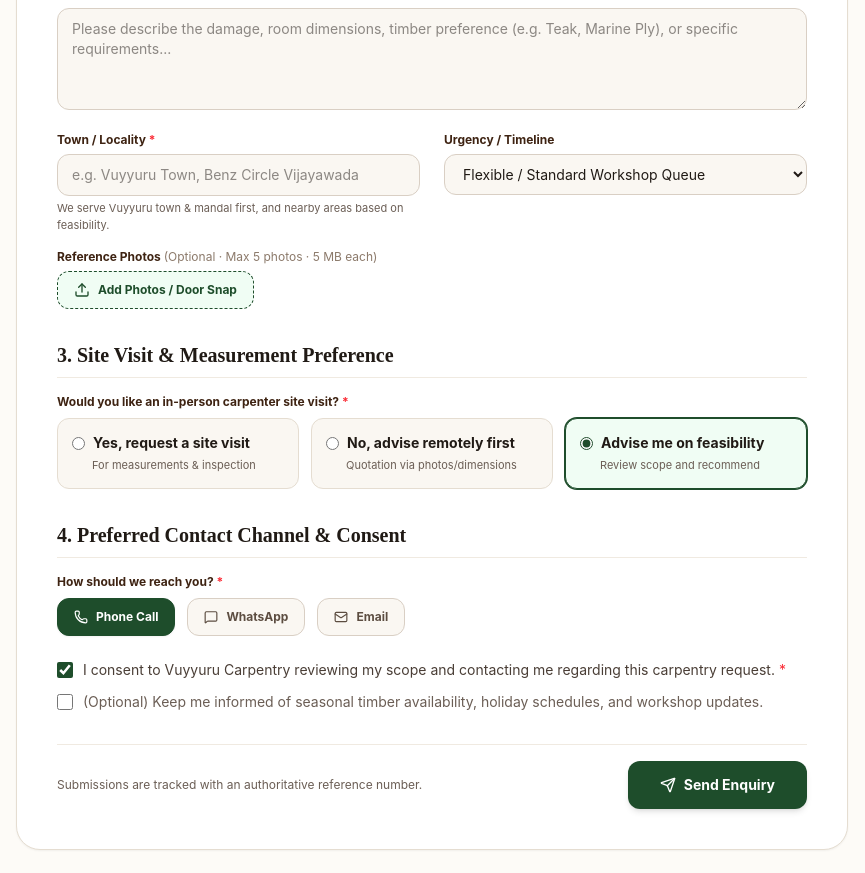
Test case: Screen 09: Contact & Site-Visit Request Acceptance Tests › 5. conditionally reveals site visit details and makes address required when yes is chosen
(page scrolled)
Check: the heading "3. Site Visit & Measurement Preference" is shown, box [57,341,807,378]
Check: the field labelled "Full Street Address / Landmark for Site Visit" is not shown
Select "Yes, request a site visit"
Click the radio button labelled "Yes, request a site visit For measurements & inspection": (78, 443) [72,436,85,450]
(page scrolled)
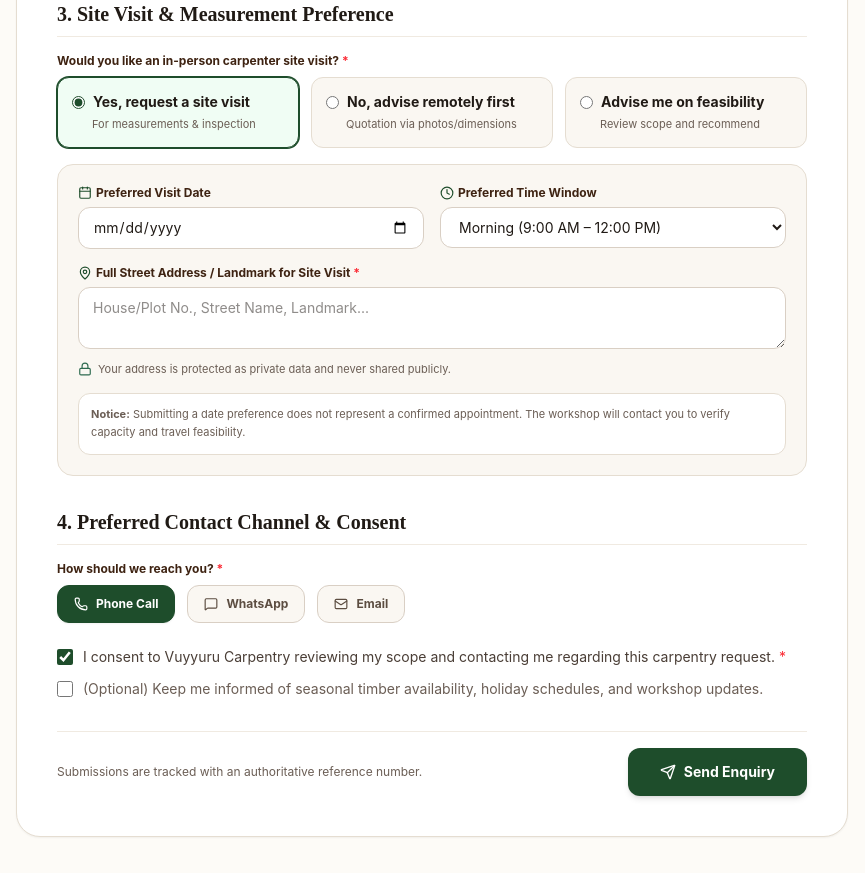
Check: the text box labelled "Full Street Address / Landmark for Site Visit *" is shown, box [78,286,786,348]
Check: the date field labelled "Preferred Visit Date" is shown, box [78,206,424,248]
Check: the dropdown labelled "Preferred Time Window" is shown, box [440,206,786,248]
Submitting without address should trigger validation error
Click the button "Send Enquiry": (717, 772) [628,748,807,796]
(page scrolled)
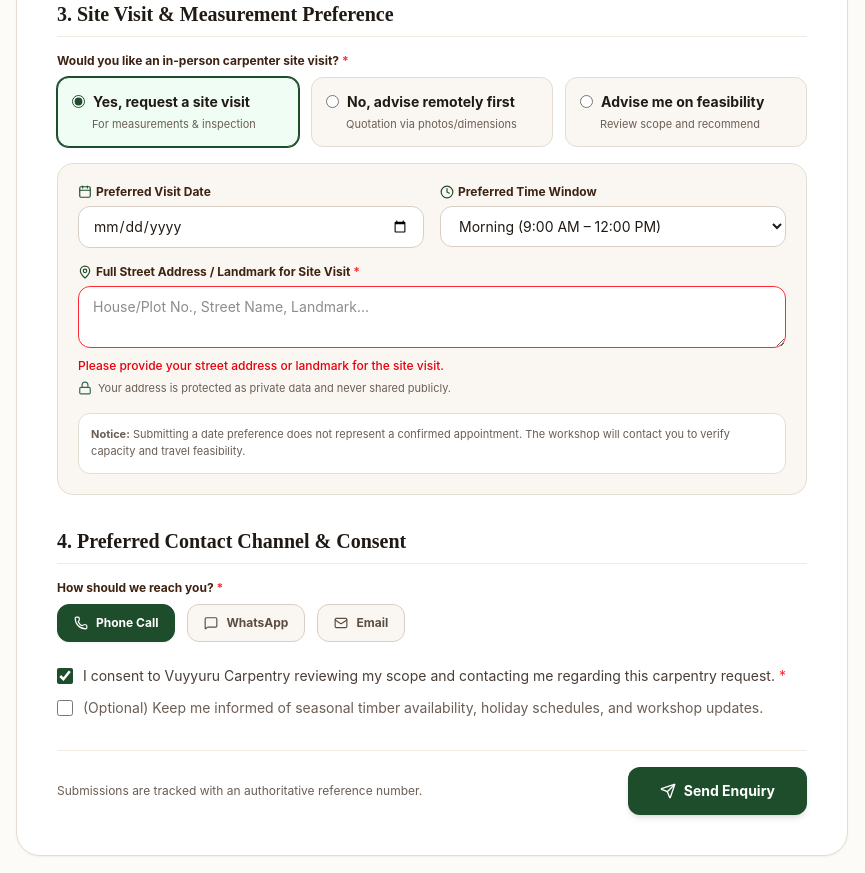
Check: the text "Please provide your street address or landmark for the site visit." is shown, box [78,358,444,373]
